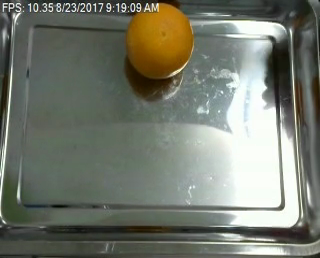Orange: (127, 3, 194, 79)
